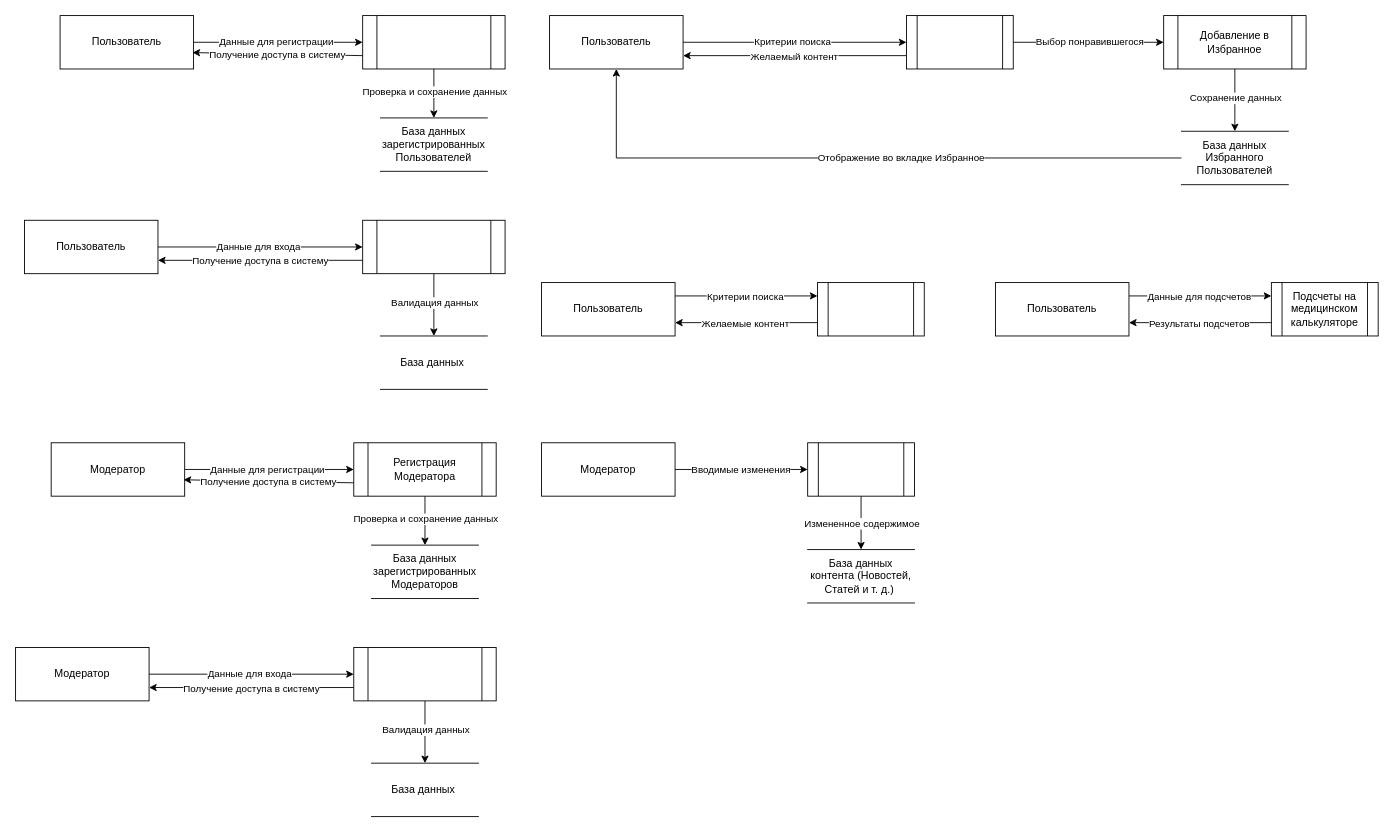
The diagram is 1394 pixels wide and 832 high, and some of its shapes have lost their labels. The shapes that lost their labels are listed below. From the top down, each one's box as (x1, y1, x2, y2) in pixels, then its label:
(362, 15, 505, 69): Регистрация Пользователя
(906, 15, 1013, 69): Фильтрация, поиск и выбор контента
(362, 219, 505, 274): Вход Пользователя
(817, 282, 924, 336): Фильтрация и поиск контента
(807, 442, 914, 496): Редактирование контента
(353, 647, 496, 701): Вход Модератора
